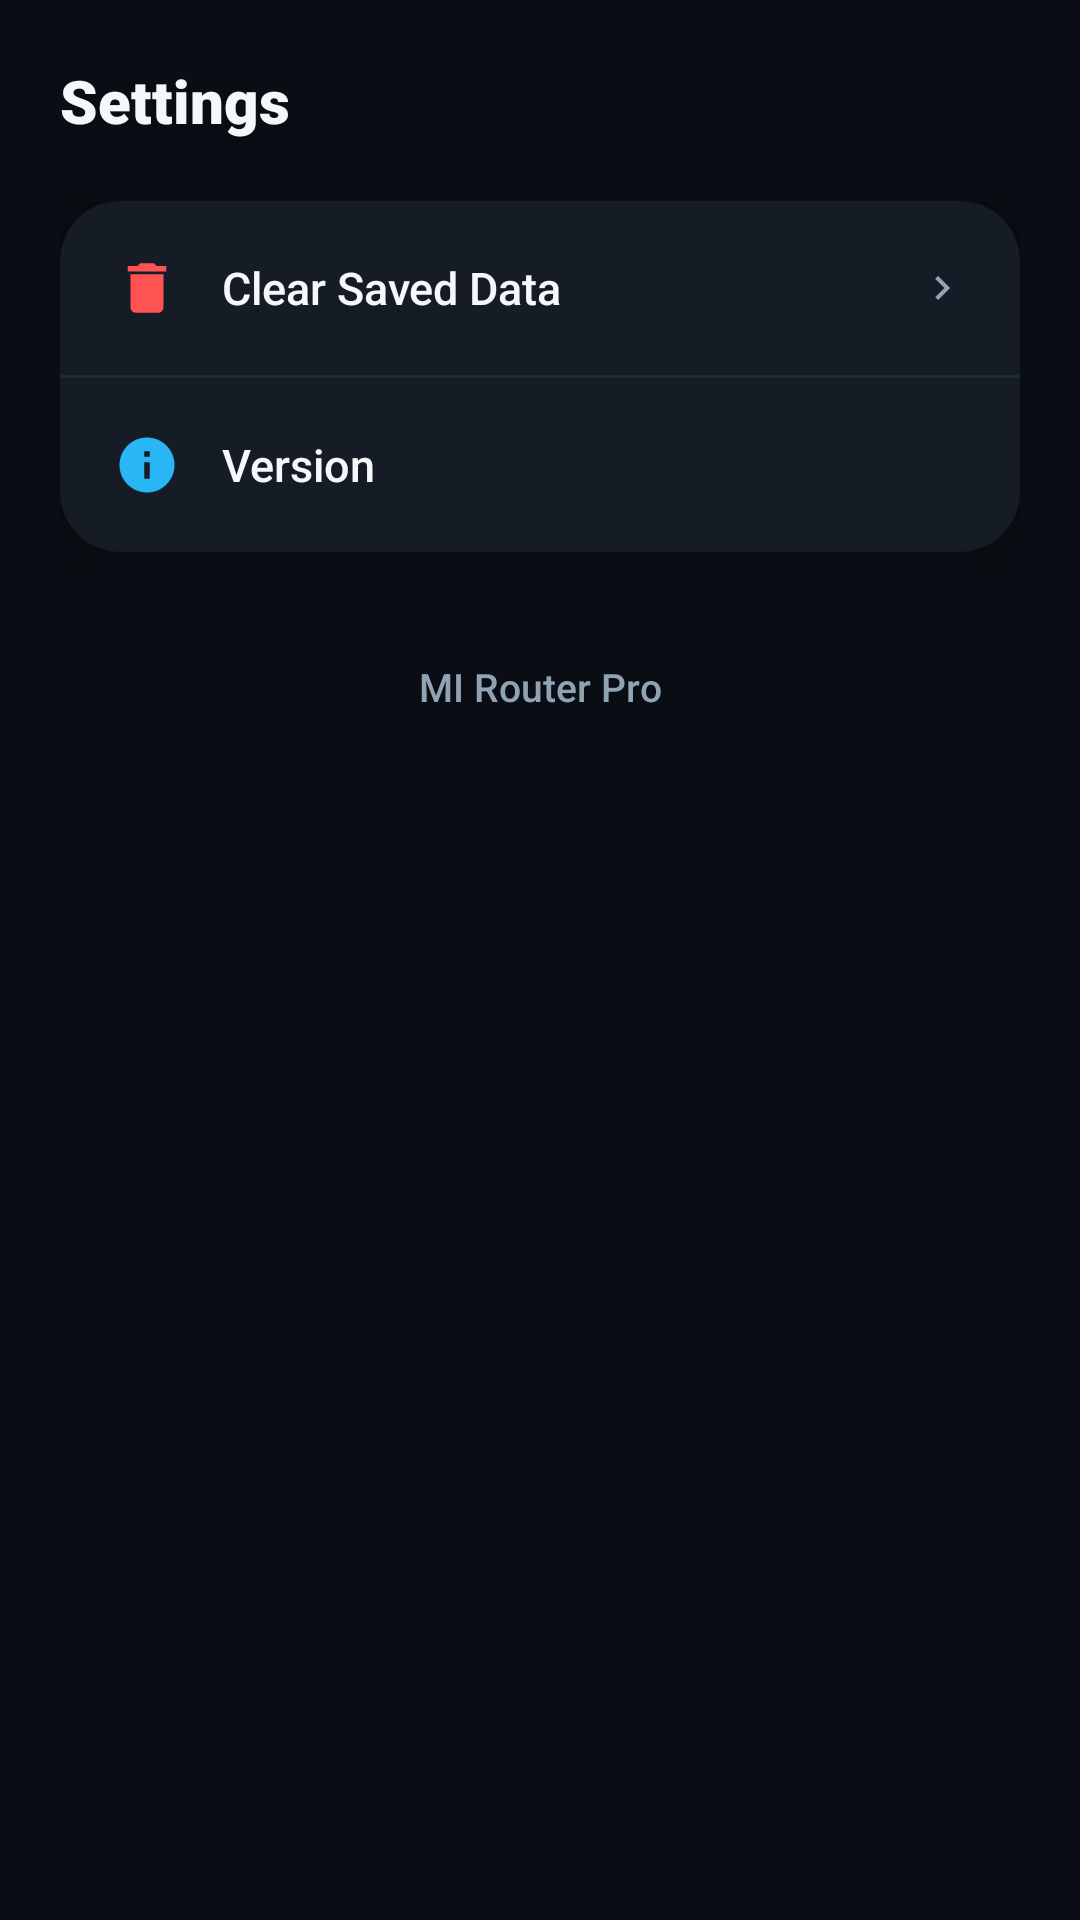

Named icons in this screenshot (1080w x 1920h) and their bounding boxes, region(x1, y1, x2, y2):
arrow forward: region(935, 276, 950, 300)
info: region(119, 437, 175, 493)
trash: region(127, 263, 167, 313)
